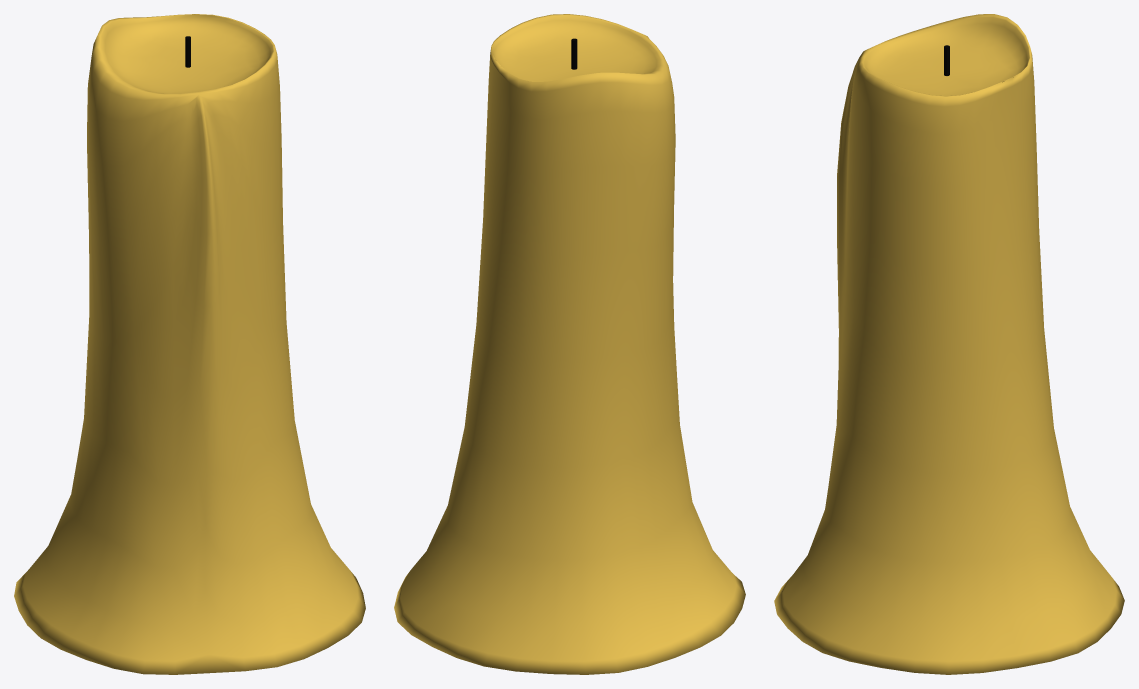
Rendered from candel 1.fbx.
3 renders of one model, left to right at view 1: azimuth 30°, elevation 25°; view 2: azimuth 150°, elevation 25°; view 3: azimuth 270°, elevation 25°, orthographic. The views are drawn at different scales.
Visible parts, largest first — view 1: Cylinder; view 2: Cylinder; view 3: Cylinder.
Boxes of the visible parts, left/top/right/bottom form: Cylinder: left=14, top=14, right=365, bottom=674; Cylinder: left=394, top=14, right=745, bottom=674; Cylinder: left=774, top=14, right=1124, bottom=674.
Size of the model in its own units: 115 by 207 by 118.
